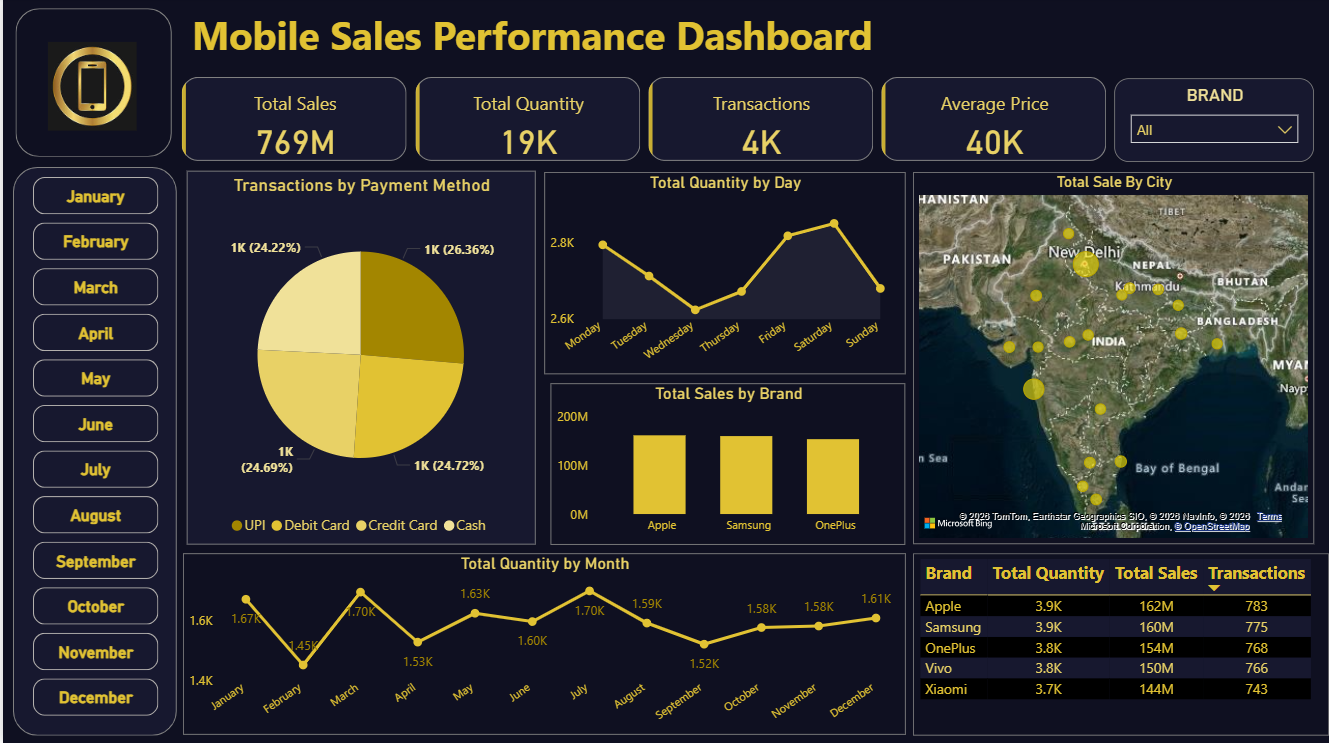

This screenshot's page, from the dashboard's own definition file:
{"tool":"powerbi","page":{"name":"Overview","canvas":[1280,720],"ordinal":0},"visuals":[{"type":"shape","box":[12.1,10.9,150.8,143.6],"z":0},{"type":"shape","box":[9.7,164.1,158,548.9],"z":1000},{"type":"advancedSlicerVisual","fields":{"Values":["Sales_Data.DATE.Variation.Date Hierarchy.Month"]},"box":[24.1,168.9,131.5,534.5],"z":2000},{"type":"cardVisual","fields":{"Data":["Sales_Data.TOTAL_SALE","Sales_Data.TOTAL_QUANTITY","Sales_Data.TRANSACTIONS","Sales_Data.AVG_PRICE"]},"box":[167.7,72.4,904.8,91.7],"z":3000},{"type":"lineChart","fields":{"Y":["Sales_Data.TOTAL_QUANTITY"],"Category":["Sales_Data.DATE.Variation.Date Hierarchy.Month","Sales_Data.DATE.Variation.Date Hierarchy.Day"]},"box":[173.7,536.9,697.3,174.9],"z":4000},{"type":"image","box":[38.6,38.6,95.3,95.3],"z":5000},{"type":"map","title":"Total Sale By City","fields":{"Category":["Sales_Data.City"],"Size":["Sales_Data.TOTAL_SALE"]},"box":[878.3,168.9,387.3,359.5],"z":6000},{"type":"areaChart","title":"Total Quantity by Day ","fields":{"Category":["Sales_Data.Day Name"],"Y":["Sales_Data.TOTAL_QUANTITY"]},"box":[522.4,168.9,348.7,195.4],"z":7000},{"type":"tableEx","fields":{"Values":["Sales_Data.Brand","Sales_Data.TOTAL_QUANTITY","Sales_Data.TOTAL_SALE","Sales_Data.TRANSACTIONS"]},"box":[878.3,536.9,401.7,176.1],"z":8000},{"type":"pieChart","title":"Transactions by Payment Method","fields":{"Category":["Sales_Data.Payment Method"],"Y":["Sales_Data.TRANSACTIONS"]},"box":[177.3,167.7,336.6,360.7],"z":9000},{"type":"slicer","title":"BRAND","fields":{"Values":["Sales_Data.Brand"]},"box":[1072.5,78.4,193,80.8],"z":10000},{"type":"textbox","box":[177.3,6,700.9,76],"z":11000},{"type":"clusteredColumnChart","fields":{"Category":["Sales_Data.Brand"],"Y":["Sales_Data.Total Sales"]},"box":[528.4,372.8,342.6,155.6],"z":12000}]}

Visuals, with their boxes in screenshot pixels (x1, y1, x2, y2), scaled from the page's 1280x720 canvas onto the 1329x743 screenshot:
shape: x1=13, y1=11, x2=169, y2=159
shape: x1=10, y1=169, x2=174, y2=736
advancedSlicerVisual - Sales_Data.DATE.Variation.Date Hierarchy.Month: x1=25, y1=174, x2=162, y2=726
cardVisual - Sales_Data.TOTAL_SALE x Sales_Data.TOTAL_QUANTITY: x1=174, y1=75, x2=1114, y2=169
lineChart - Sales_Data.TOTAL_QUANTITY x Sales_Data.DATE.Variation.Date Hierarchy.Month: x1=180, y1=554, x2=904, y2=735
image: x1=40, y1=40, x2=139, y2=138
"Total Sale By City" map: x1=912, y1=174, x2=1314, y2=545
"Total Quantity by Day " areaChart: x1=542, y1=174, x2=904, y2=376
tableEx - Sales_Data.Brand x Sales_Data.TOTAL_QUANTITY: x1=912, y1=554, x2=1328, y2=736
"Transactions by Payment Method" pieChart: x1=184, y1=173, x2=534, y2=545
"BRAND" slicer: x1=1114, y1=81, x2=1314, y2=164
textbox: x1=184, y1=6, x2=912, y2=85
clusteredColumnChart - Sales_Data.Brand x Sales_Data.Total Sales: x1=549, y1=385, x2=904, y2=545
